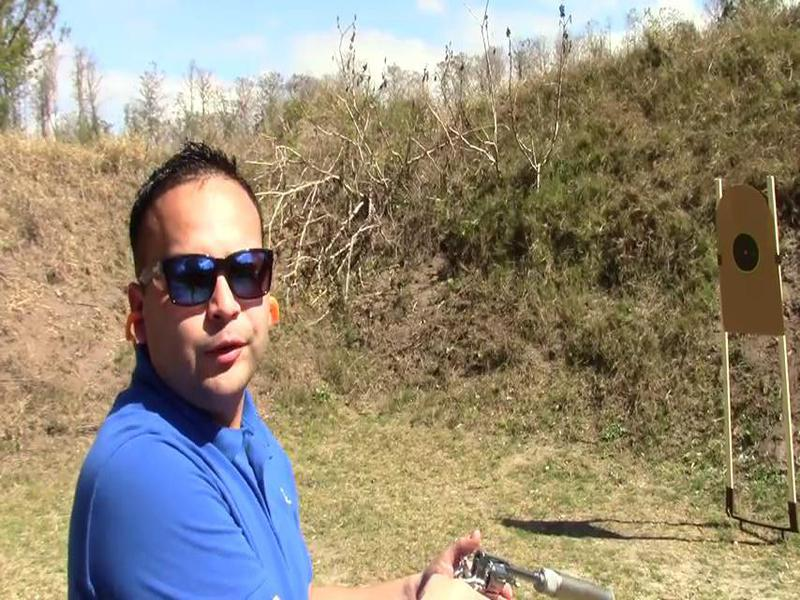Revolver: (419, 529, 552, 600)
